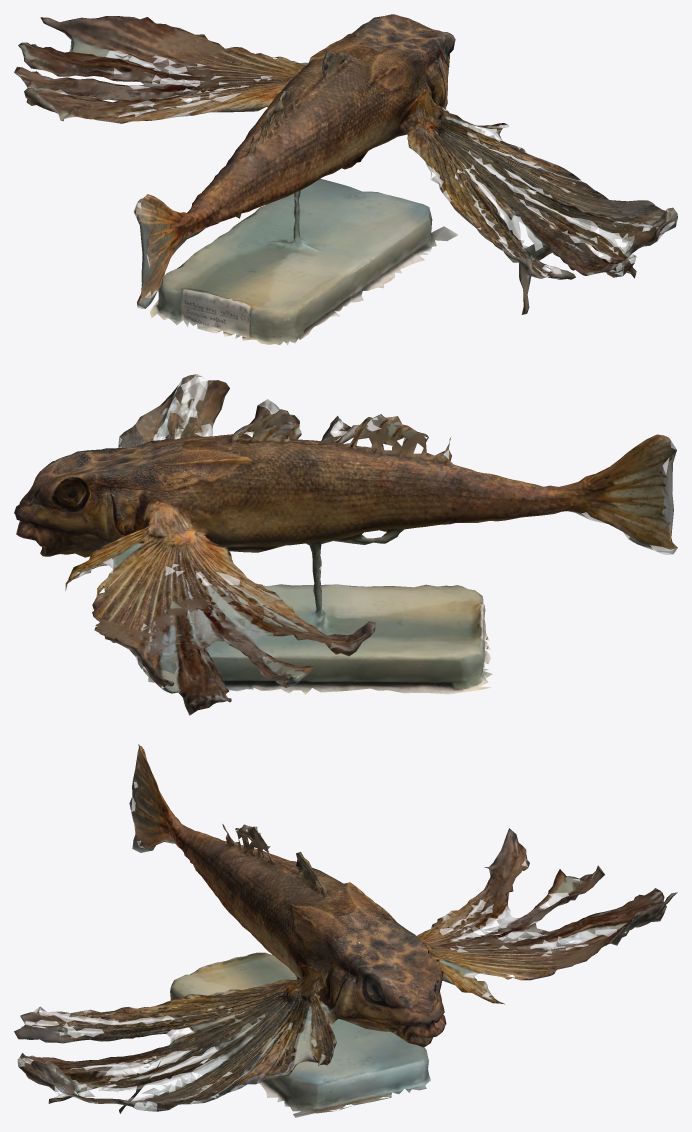
3 views of the same model, one above another, from view 1: azimuth 30°, elevation 25°; view 2: azimuth 150°, elevation 25°; view 3: azimuth 270°, elevation 25° (orthographic). The views are drawn at different scales.
Parts seen in each view (by area): view 1: model_aligned; view 2: model_aligned; view 3: model_aligned.
Boxes of the visible parts, bbox=[...] form: model_aligned: bbox=[14, 14, 677, 345]; model_aligned: bbox=[14, 374, 677, 715]; model_aligned: bbox=[14, 744, 677, 1117].
Size of the model in its own units: 1.17 by 0.4775 by 1.35.
2 materials, 2 textured.
